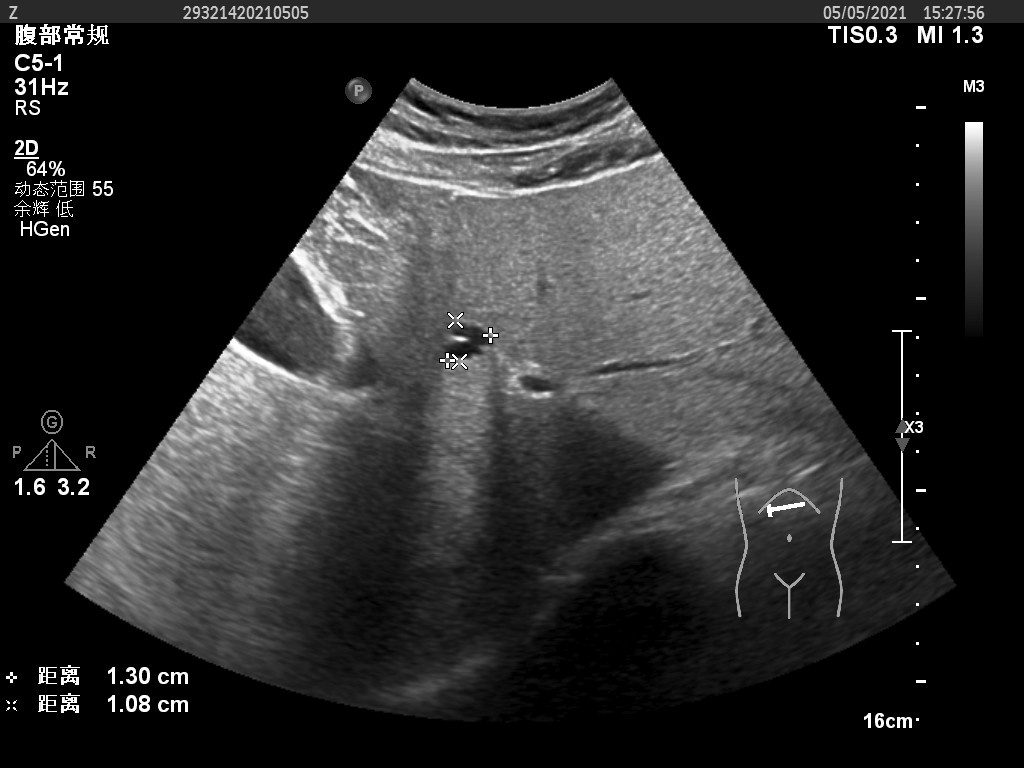肌瘤: (438, 323, 488, 361)
